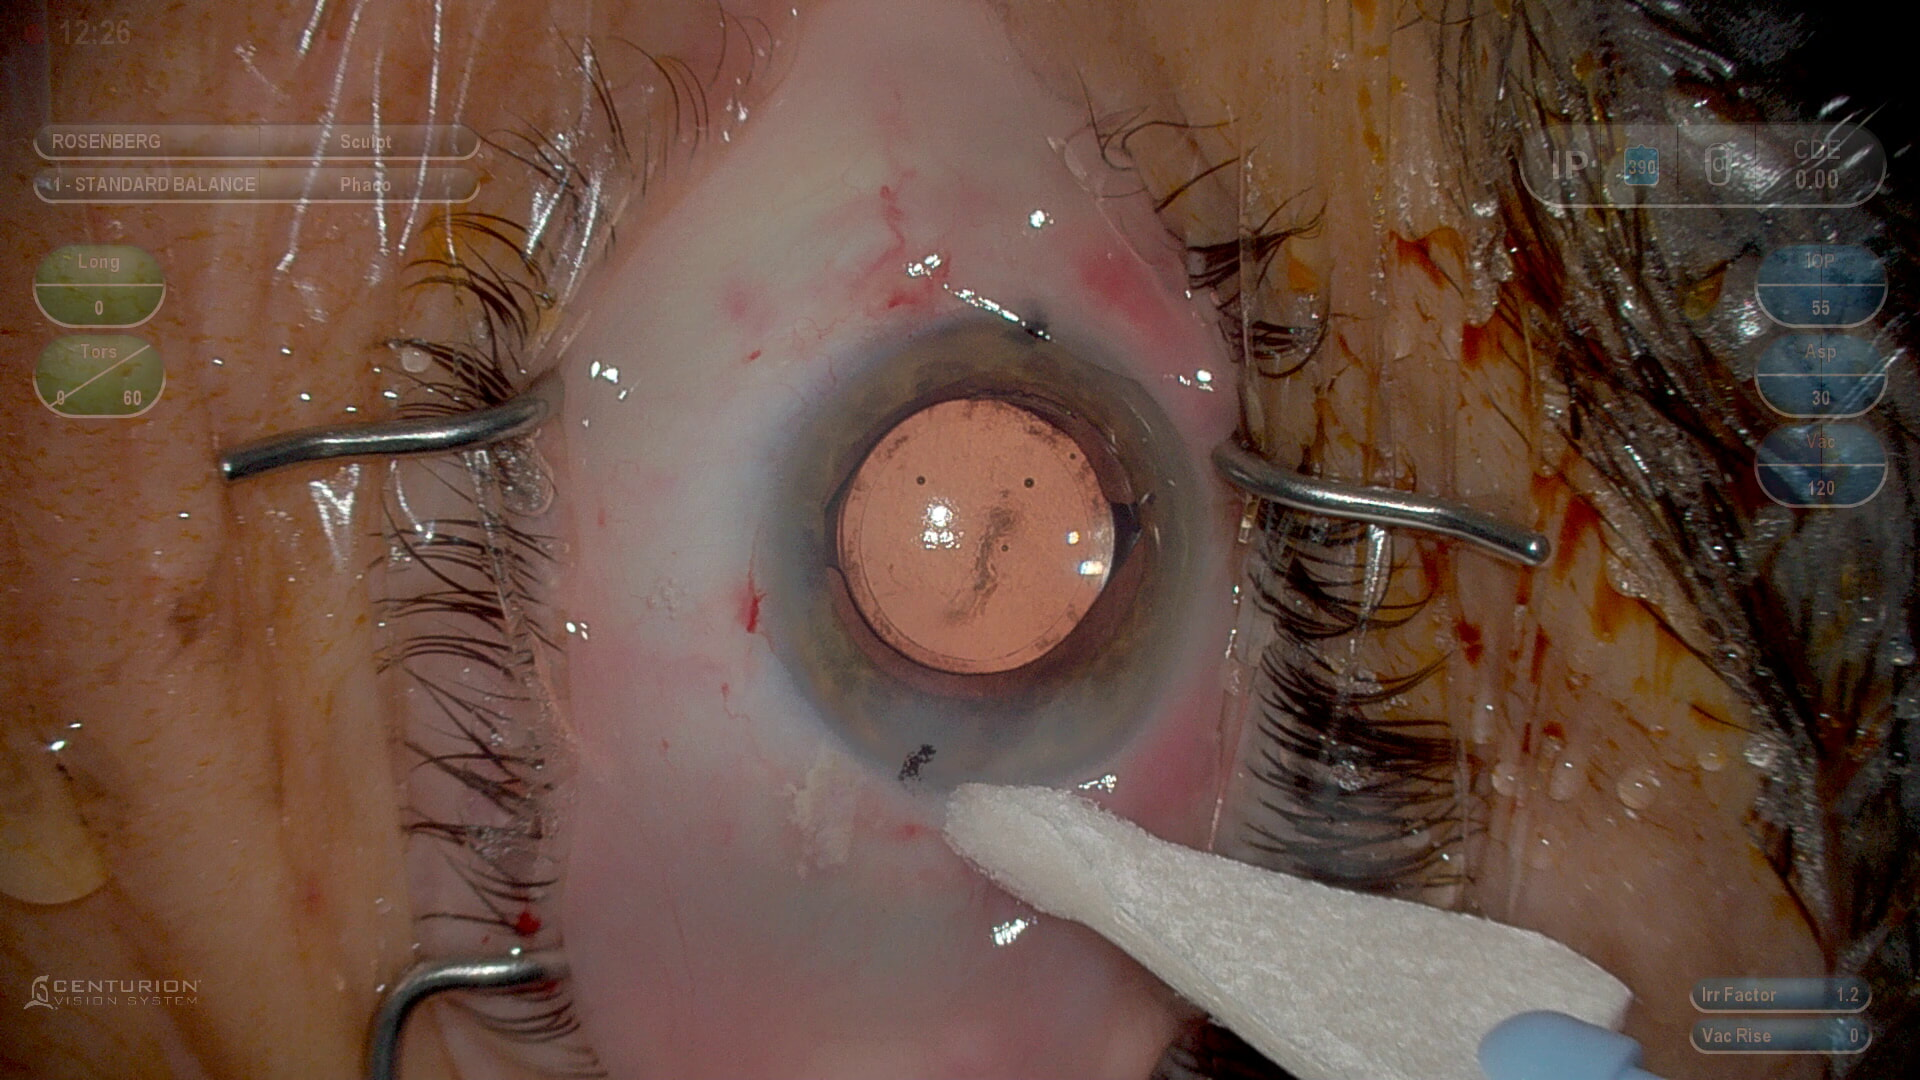iris: (769, 326, 1184, 780)
pupil: (825, 392, 1123, 677)
